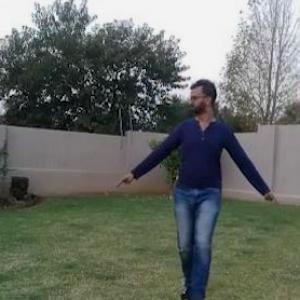land: (117, 78, 289, 299)
